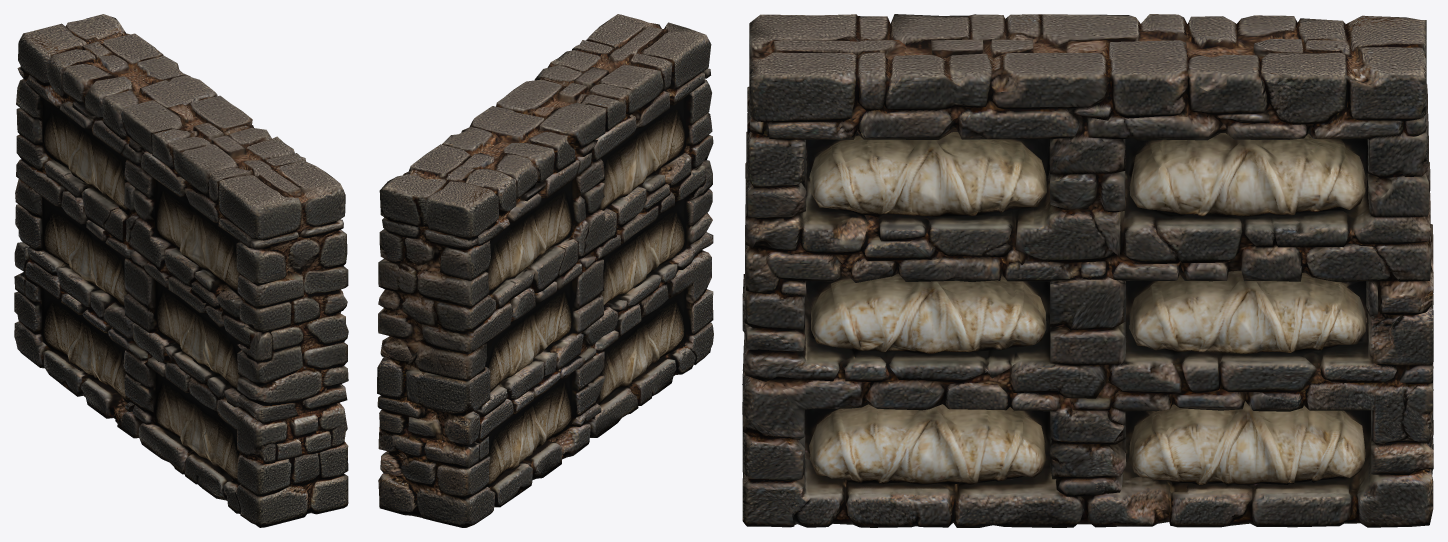
Rendered from wall_loculi.glb.
3 renders of one model, left to right at view 1: azimuth 30°, elevation 25°; view 2: azimuth 150°, elevation 25°; view 3: azimuth 270°, elevation 25°, orthographic. The views are drawn at different scales.
Parts seen in each view (by area): view 1: tripo_node_108c6512-d0ef-4adb-95c3-50d9cb25dd33; view 2: tripo_node_108c6512-d0ef-4adb-95c3-50d9cb25dd33; view 3: tripo_node_108c6512-d0ef-4adb-95c3-50d9cb25dd33.
Part boxes in pixels (x1=…): tripo_node_108c6512-d0ef-4adb-95c3-50d9cb25dd33: x1=14, y1=14, x2=348, y2=527; tripo_node_108c6512-d0ef-4adb-95c3-50d9cb25dd33: x1=377, y1=14, x2=713, y2=527; tripo_node_108c6512-d0ef-4adb-95c3-50d9cb25dd33: x1=742, y1=14, x2=1433, y2=527.
Size of the model in its own units: 0.2201 by 0.7218 by 1.
Materials: 1 (1 with a texture image).
